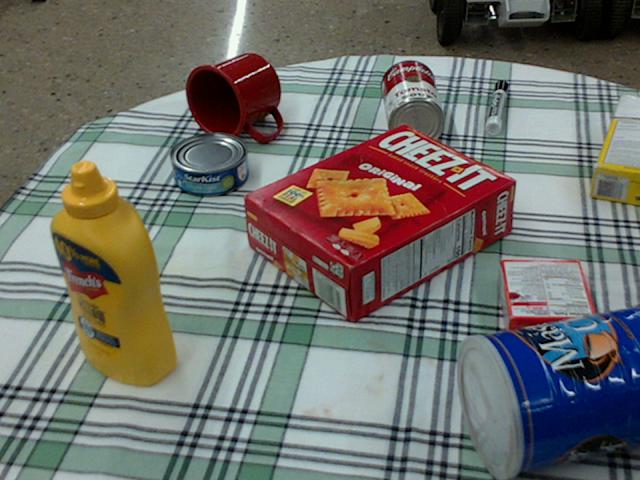cracker_box: (244, 125, 516, 322)
gelatin_box: (498, 259, 597, 338)
large_marker: (484, 80, 508, 133)
master_chef_can: (457, 302, 639, 479)
mug: (184, 52, 281, 139)
mustard_bottle: (50, 160, 177, 385)
sugar_box: (592, 93, 639, 206)
tomato_soup_can: (380, 59, 444, 146)
tuna_fish_can: (168, 131, 247, 194)
